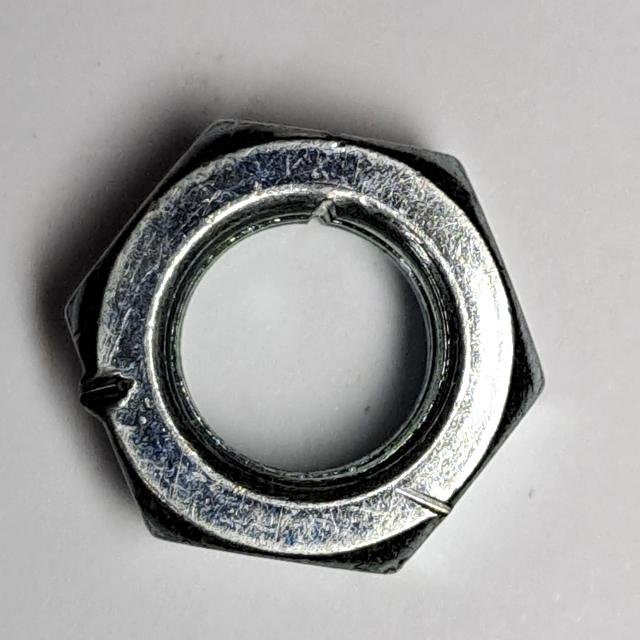Scratches: (53, 106, 555, 587)
